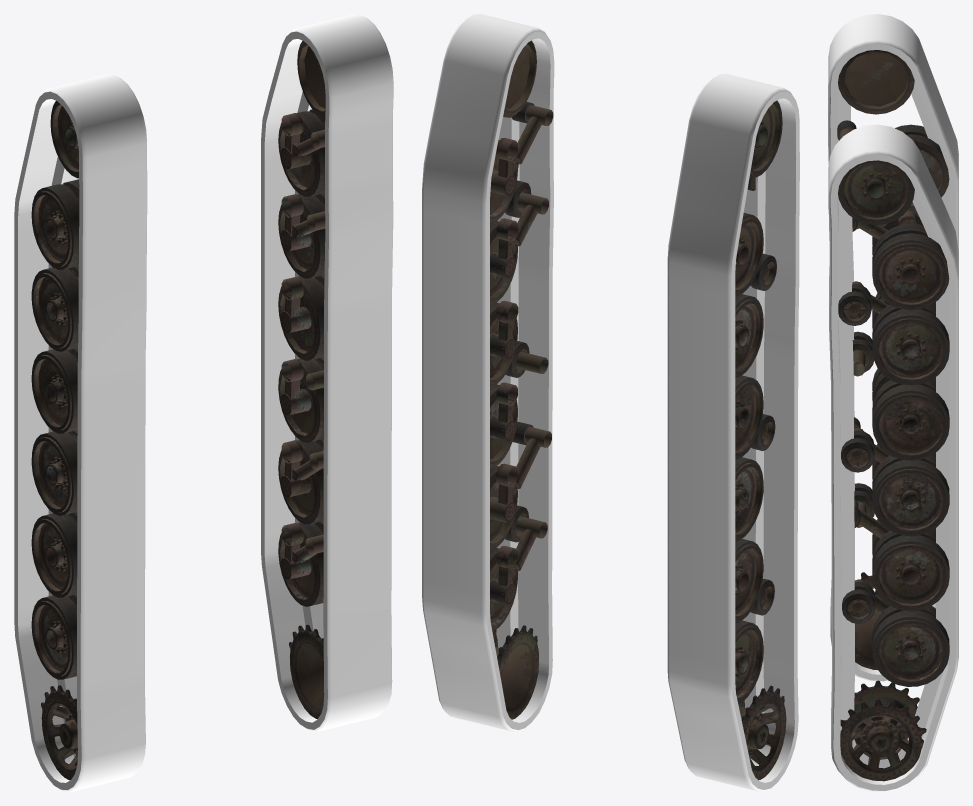
Rendered from Chassis_02.glb.
The picture shows the model from 3 angles, left to right: view 1: azimuth 30°, elevation 25°; view 2: azimuth 150°, elevation 25°; view 3: azimuth 270°, elevation 25°; orthographic projection. The views are drawn at different scales.
Visible parts, largest first — view 1: set_0_group_0, set_1_group_0, set_2_group_0, set_3_group_0; view 2: set_0_group_0, set_1_group_0, set_3_group_0, set_2_group_0; view 3: set_3_group_0, set_1_group_0, set_2_group_0, set_0_group_0.
Boxes of the visible parts, x1,y1,x2,y2 form: set_0_group_0: [14, 74, 147, 791]; set_1_group_0: [261, 14, 393, 731]; set_2_group_0: [31, 101, 79, 780]; set_3_group_0: [278, 40, 325, 718]; set_0_group_0: [667, 74, 799, 791]; set_1_group_0: [422, 14, 554, 731]; set_3_group_0: [490, 40, 553, 719]; set_2_group_0: [735, 100, 786, 780]; set_3_group_0: [838, 160, 949, 781]; set_1_group_0: [828, 124, 958, 791]; set_2_group_0: [837, 50, 949, 669]; set_0_group_0: [828, 14, 958, 681].
Size of the model in its own units: 3 by 6.45 by 1.19.
Materials: 4 (2 with a texture image).
